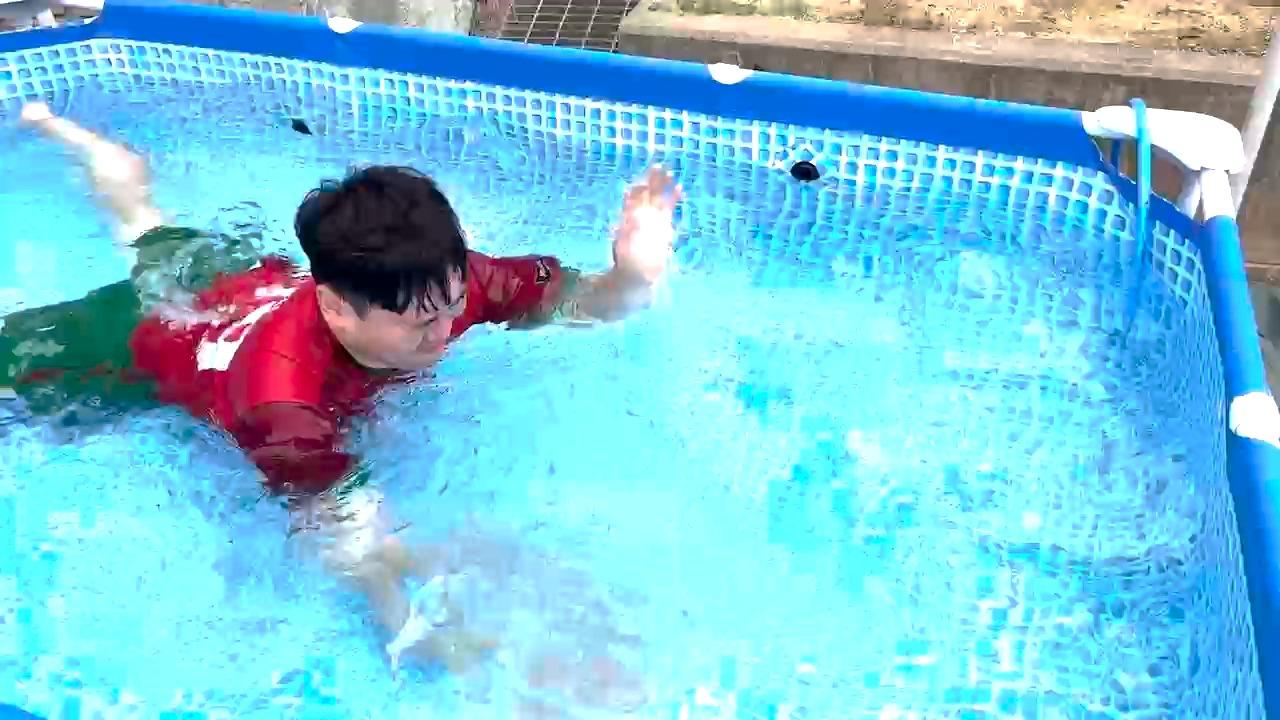Drowning: (0, 67, 792, 609)
